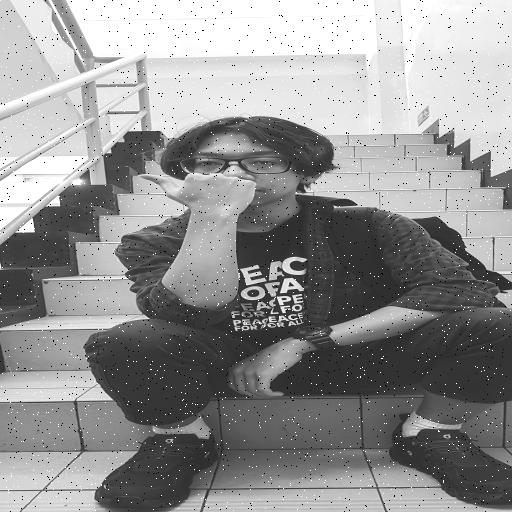back: (126, 166, 283, 219)
